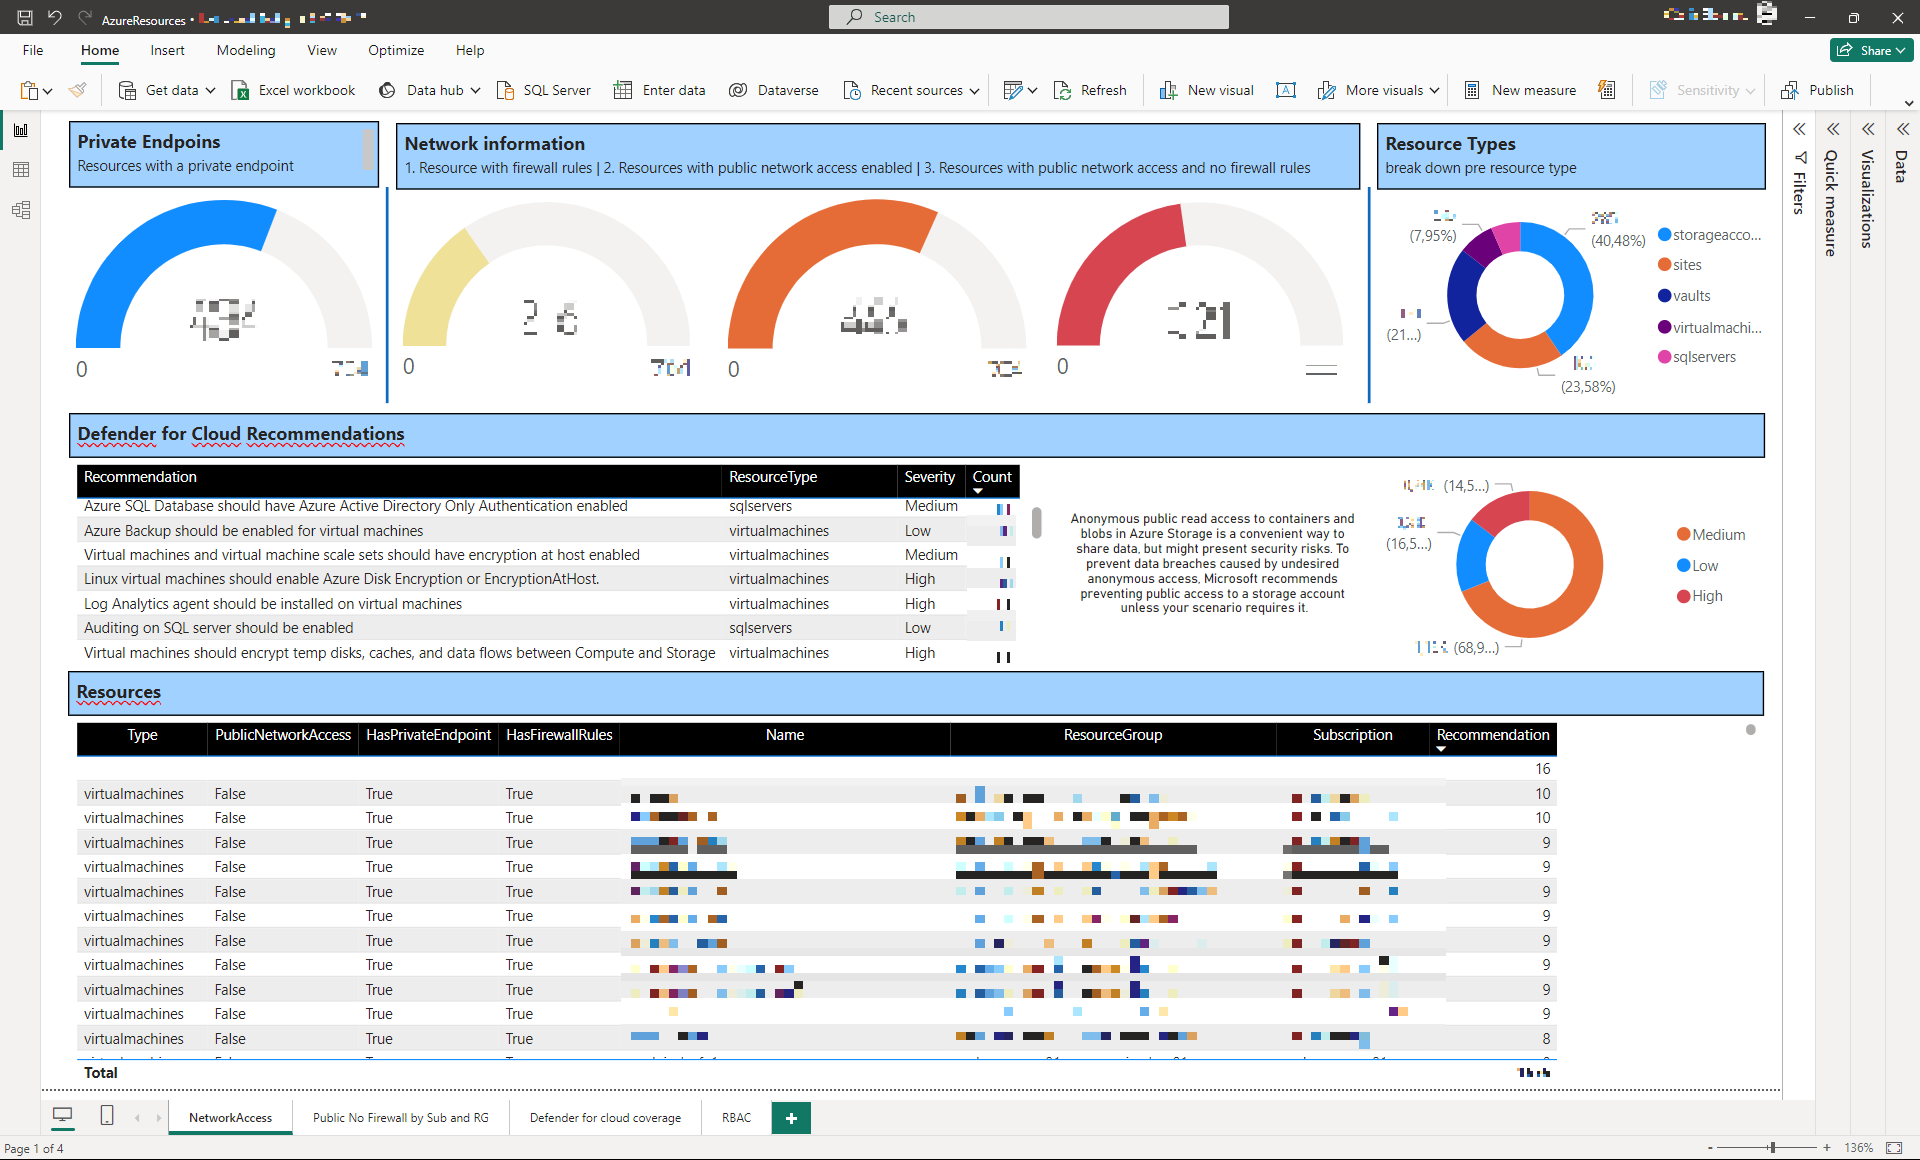

The page's visual inventory and layout, read from the dashboard file:
{"tool":"powerbi","page":{"name":"NetworkAccess","canvas":[1280,720],"ordinal":0},"visuals":[{"type":"gauge","fields":{"Y":["resources.Count of PublicNetworkAccess for True"],"MaxValue":["CountNonNull(resources.Name)"]},"box":[500,57,229.5,158.9],"z":0},{"type":"gauge","fields":{"Y":["resources.Count of HasFirewallRules for True"],"MaxValue":["CountNonNull(resources.Name)"]},"box":[260.8,57,221.5,158.9],"z":1000},{"type":"gauge","fields":{"MaxValue":["CountNonNull(resources.HasPrivateEndpoint)"],"Y":["resources.Count of HasPrivateEndpoint for True"]},"box":[20.9,57,227.9,158.9],"z":2000},{"type":"gauge","fields":{"Y":["resources.Count Open Network Access"],"MaxValue":["CountNonNull(resources.Name)"]},"box":[741.5,57,220.7,158.9],"z":3000},{"type":"tableEx","fields":{"Values":["resources.Type","resources.PublicNetworkAccess","resources.HasPrivateEndpoint","resources.HasFirewallRules","resources.Name","resourcegroups.ResourceGroup","subscriptions.Subscription","securityrecommendations.Recommendation"]},"box":[20.9,445.4,1246.3,275.3],"z":4000},{"type":"donutChart","fields":{"Y":["CountNonNull(resources.Type)"],"Category":["resources.Type"]},"box":[982.3,57,297.7,158.9],"z":5000},{"type":"tableEx","fields":{"Values":["securityrecommendations.Recommendation","securityrecommendations.ResourceType","securityrecommendations.Severity","securityrecommendations.ResourceId"]},"box":[20.9,256,720.7,156.5],"z":6000},{"type":"donutChart","fields":{"Category":["securityrecommendations.Severity"],"Y":["CountNonNull(securityrecommendations.Severity)"]},"box":[982.3,256,285.7,156.5],"z":7000},{"type":"card","fields":{"Values":["Min(securityrecommendations.Description)"]},"box":[742.3,256,239.9,156.5],"z":8000},{"type":"textbox","box":[20.9,8,227.9,49],"z":9000},{"type":"shape","box":[248.8,57,12,158.9],"z":10000},{"type":"textbox","box":[982.3,9.6,285.7,49],"z":11000},{"type":"shape","box":[970.2,57,12,158.9],"z":12000},{"type":"textbox","box":[260.8,9.6,709.4,49],"z":13000},{"type":"textbox","box":[20.9,223.1,1247.1,32.9],"z":14000},{"type":"textbox","box":[20.1,412.5,1247.1,32.9],"z":15000}]}

Visuals, with their boxes on the page's 1280x720 design canvas (x1, y1, x2, y2). These are canvas units, not pixel positions in the 1920x1160 screenshot, which may show the page scaled, cropped or inside an application window:
gauge - resources.Count of PublicNetworkAccess for True x CountNonNull(resources.Name): BBox(500, 57, 730, 216)
gauge - resources.Count of HasFirewallRules for True x CountNonNull(resources.Name): BBox(261, 57, 482, 216)
gauge - CountNonNull(resources.HasPrivateEndpoint) x resources.Count of HasPrivateEndpoint for True: BBox(21, 57, 249, 216)
gauge - resources.Count Open Network Access x CountNonNull(resources.Name): BBox(742, 57, 962, 216)
tableEx - resources.Type x resources.PublicNetworkAccess: BBox(21, 445, 1267, 721)
donutChart - CountNonNull(resources.Type) x resources.Type: BBox(982, 57, 1280, 216)
tableEx - securityrecommendations.Recommendation x securityrecommendations.ResourceType: BBox(21, 256, 742, 412)
donutChart - securityrecommendations.Severity x CountNonNull(securityrecommendations.Severity): BBox(982, 256, 1268, 412)
card - Min(securityrecommendations.Description): BBox(742, 256, 982, 412)
textbox: BBox(21, 8, 249, 57)
shape: BBox(249, 57, 261, 216)
textbox: BBox(982, 10, 1268, 59)
shape: BBox(970, 57, 982, 216)
textbox: BBox(261, 10, 970, 59)
textbox: BBox(21, 223, 1268, 256)
textbox: BBox(20, 412, 1267, 445)
